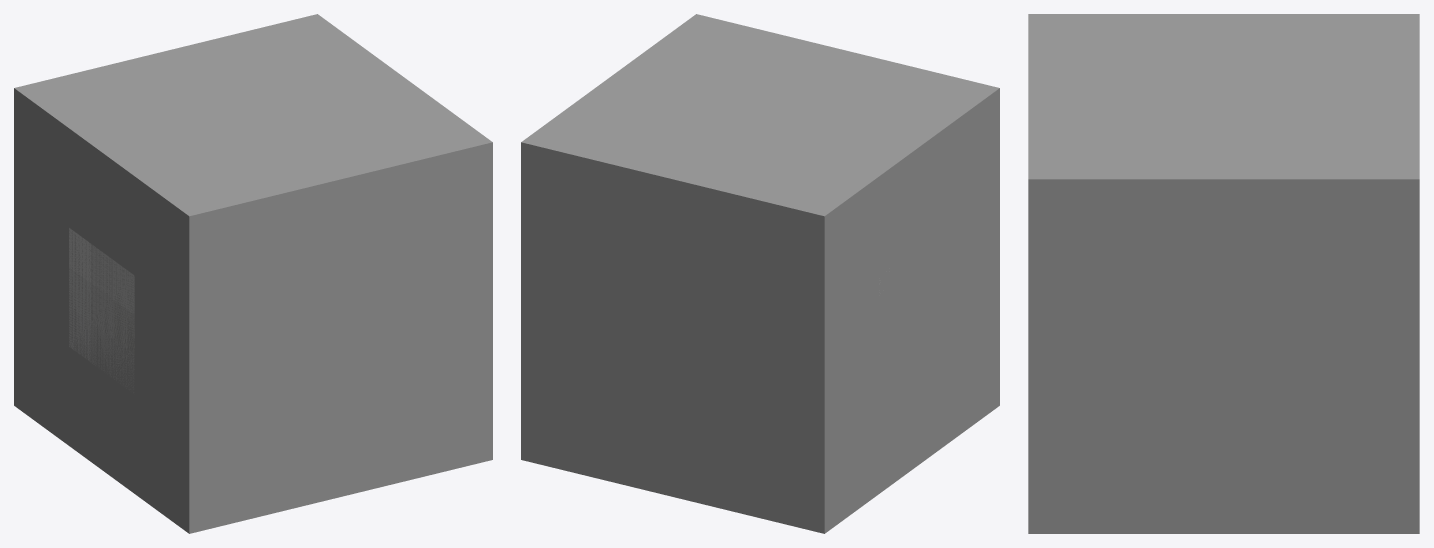
Rendered from electricalweathersensor.obj.
The picture shows the model from 3 angles, left to right: view 1: azimuth 30°, elevation 25°; view 2: azimuth 150°, elevation 25°; view 3: azimuth 270°, elevation 25°; orthographic projection. The views are drawn at different scales.
Visible parts, largest first — view 1: Minecraft_Block_Cube, Minecraft_2_Edge_Connectivity_Cube.002, main; view 2: Minecraft_Block_Cube, Minecraft_2_Edge_Connectivity_Cube.002; view 3: Minecraft_Block_Cube, Minecraft_2_Edge_Connectivity_Cube.002.
Part boxes in pixels (x1,y1,x2,y2): Minecraft_Block_Cube: [15, 14, 492, 533]; Minecraft_2_Edge_Connectivity_Cube.002: [14, 88, 252, 533]; main: [69, 228, 134, 393]; Minecraft_Block_Cube: [521, 14, 998, 533]; Minecraft_2_Edge_Connectivity_Cube.002: [760, 88, 999, 533]; Minecraft_Block_Cube: [1028, 14, 1419, 533]; Minecraft_2_Edge_Connectivity_Cube.002: [1029, 14, 1418, 96].
Bounding box in the file's own units: 1 × 1 × 1.
2 materials, 1 textured.
